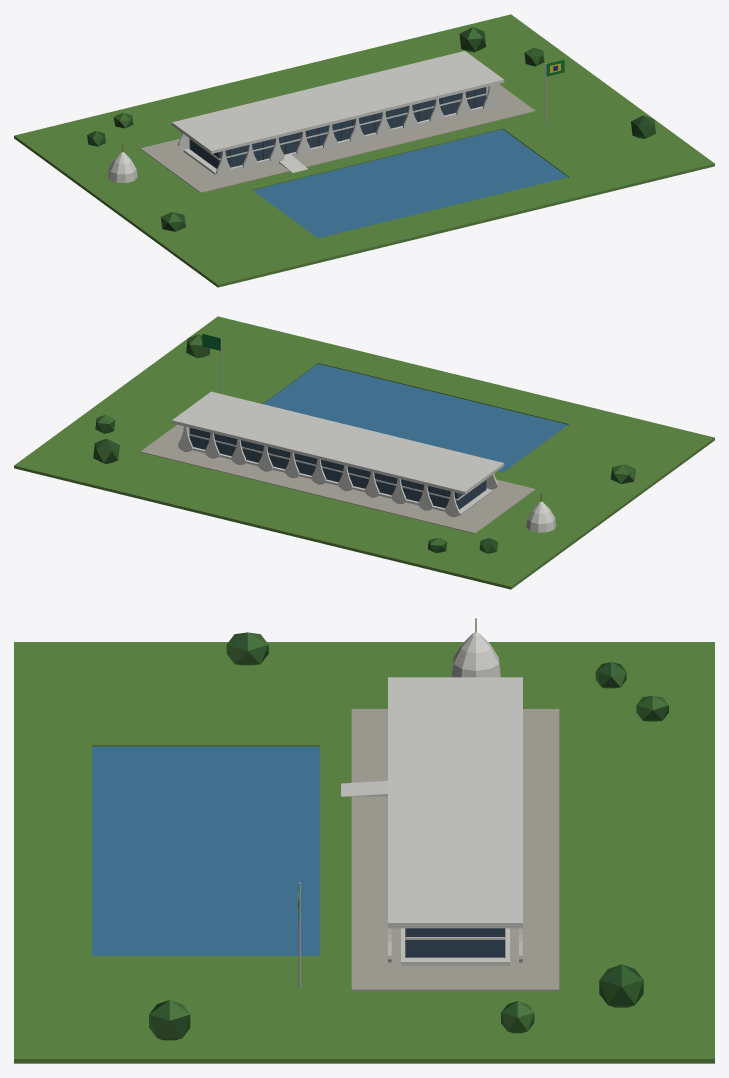
The model's file is palacio_da_alvorada.glb.
3 renders of one model, top to bottom at view 1: azimuth 30°, elevation 25°; view 2: azimuth 150°, elevation 25°; view 3: azimuth 270°, elevation 25°, orthographic. The views are drawn at different scales.
Parts seen in each view (by area): view 1: palacio_da_alvorada; view 2: palacio_da_alvorada; view 3: palacio_da_alvorada.
Part boxes in pixels (bbox=[...]): palacio_da_alvorada: bbox=[14, 14, 714, 287]; palacio_da_alvorada: bbox=[14, 316, 714, 589]; palacio_da_alvorada: bbox=[14, 618, 714, 1063].
Bounding box in the file's own units: 190 × 23.4 × 135.
